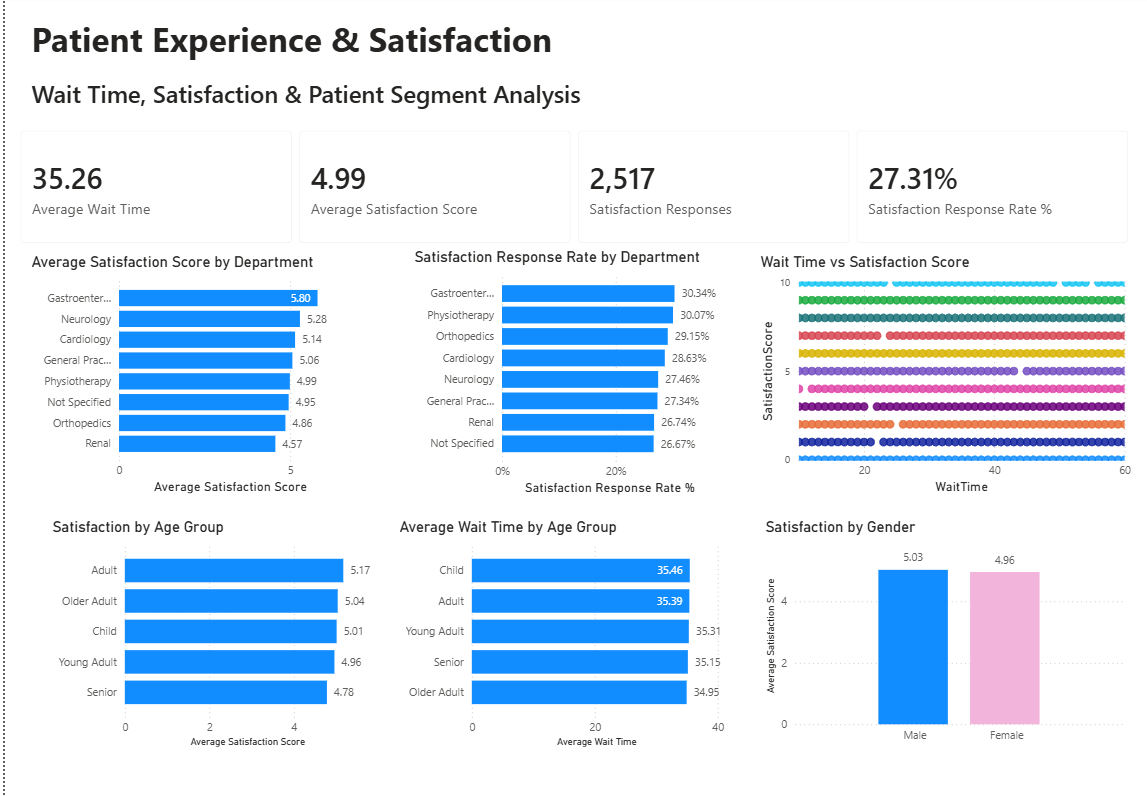

What the dashboard file says about the page in this screenshot:
{"tool":"powerbi","page":{"name":"Patient Experience","canvas":[1280,900],"ordinal":1},"visuals":[{"type":"cardVisual","fields":{"Data":["_Measures.Average Wait Time","_Measures.Average Satisfaction Score","_Measures.Satisfaction Responses","_Measures.Satisfaction Response Rate %"]},"box":[12.3,145.2,1252.9,136.6],"z":0},{"type":"clusteredBarChart","title":"Average Satisfaction Score by Department","fields":{"Category":["dim_department.DepartmentReferral"],"Y":["_Measures.Average Satisfaction Score"]},"box":[24.6,288,361.8,274.5],"z":1000},{"type":"clusteredBarChart","title":"Satisfaction by Age Group","fields":{"Category":["dim_patient.AgeGroup"],"Y":["_Measures.Average Satisfaction Score"]},"box":[48,584.6,370.5,260.9],"z":2000},{"type":"textbox","box":[24.6,18.5,614.2,67.7],"z":3000},{"type":"textbox","box":[24.6,86.2,660.9,55.4],"z":4000},{"type":"scatterChart","title":"Wait Time vs Satisfaction Score","fields":{"X":["fact_patient_encounter.WaitTime"],"Y":["fact_patient_encounter.SatisfactionScore"]},"box":[840.6,288,424.6,274.5],"z":5000},{"type":"clusteredColumnChart","title":"Satisfaction by Gender","fields":{"Category":["dim_patient.PatientGender"],"Y":["_Measures.Average Satisfaction Score"]},"box":[846.8,584.6,413.5,260.9],"z":5001},{"type":"clusteredBarChart","title":"Average Wait Time by Age Group","fields":{"Category":["dim_patient.AgeGroup"],"Y":["_Measures.Average Wait Time"]},"box":[436.9,584.6,377.8,260.9],"z":5002},{"type":"clusteredBarChart","title":"Satisfaction Response Rate by Department","fields":{"Category":["dim_department.DepartmentReferral"],"Y":["_Measures.Satisfaction Response Rate %"]},"box":[452.9,281.8,361.8,280.6],"z":5003}]}

Visuals, with their boxes in screenshot pixels (x1, y1, x2, y2), scaled from the page's 1280x900 canvas onto the 1147x796 screenshot:
cardVisual - _Measures.Average Wait Time x _Measures.Average Satisfaction Score: left=11, top=128, right=1134, bottom=249
"Average Satisfaction Score by Department" clusteredBarChart: left=22, top=255, right=346, bottom=498
"Satisfaction by Age Group" clusteredBarChart: left=43, top=517, right=375, bottom=748
textbox: left=22, top=16, right=572, bottom=76
textbox: left=22, top=76, right=614, bottom=125
"Wait Time vs Satisfaction Score" scatterChart: left=753, top=255, right=1134, bottom=498
"Satisfaction by Gender" clusteredColumnChart: left=759, top=517, right=1129, bottom=748
"Average Wait Time by Age Group" clusteredBarChart: left=392, top=517, right=730, bottom=748
"Satisfaction Response Rate by Department" clusteredBarChart: left=406, top=249, right=730, bottom=497
